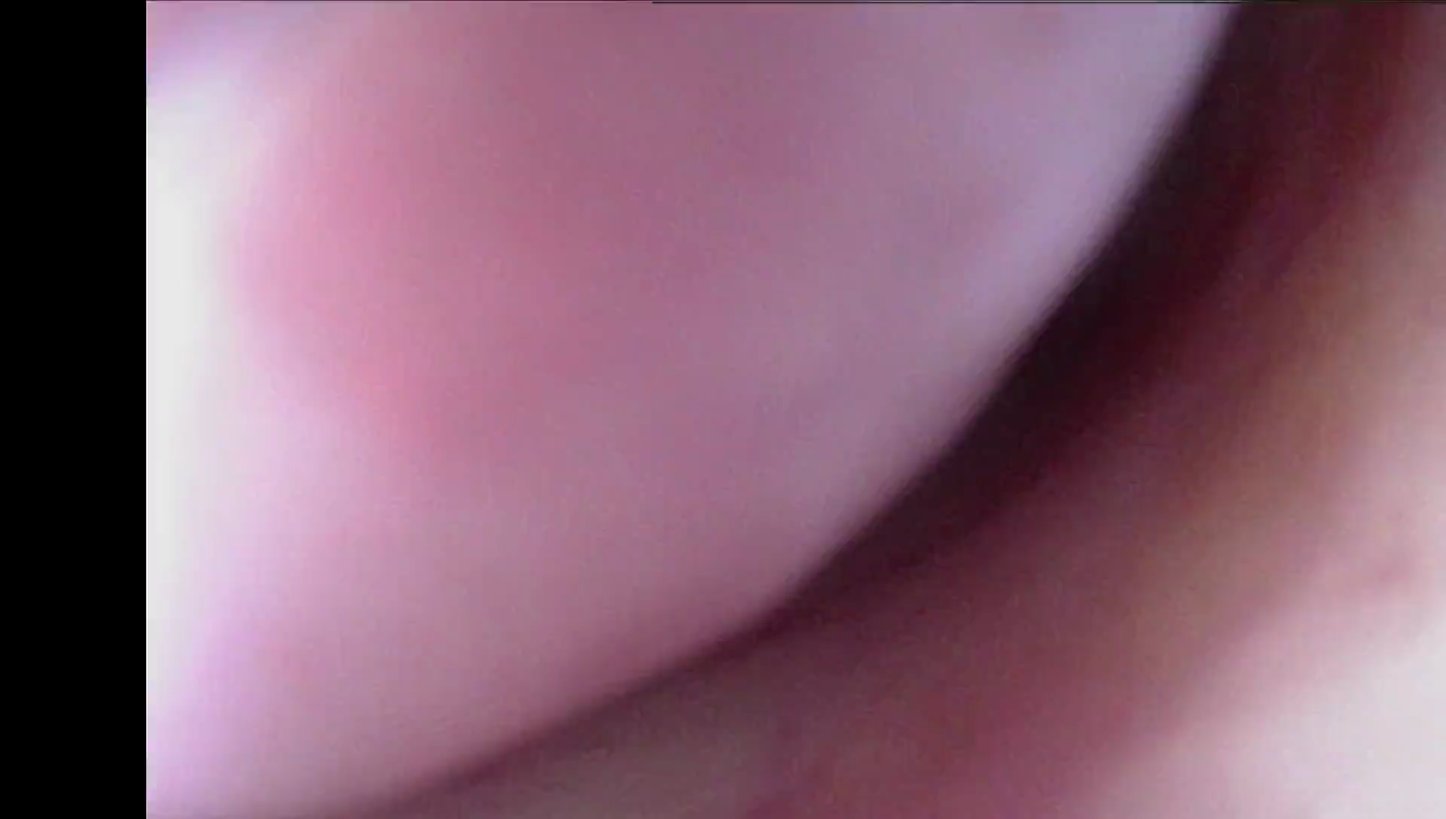close_wall: (151, 8, 498, 779), (1083, 546, 1446, 819)
next: (961, 165, 1197, 471)
